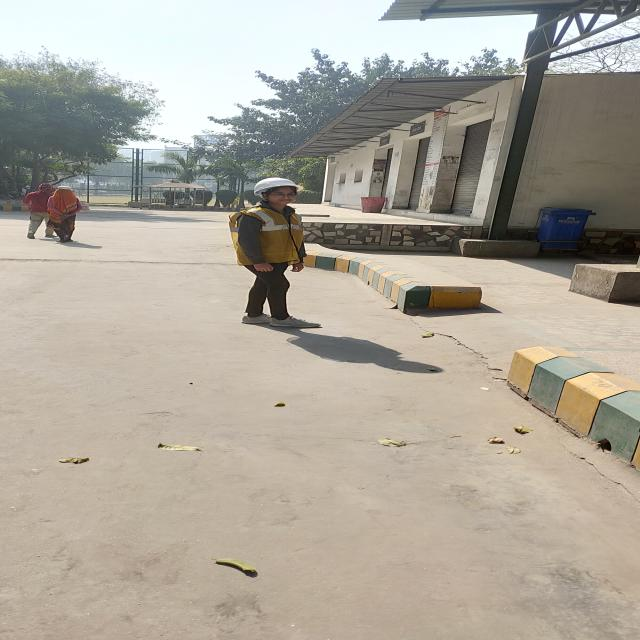safe: (228, 178, 304, 326)
unsafe: (48, 188, 83, 242), (24, 183, 54, 238)
